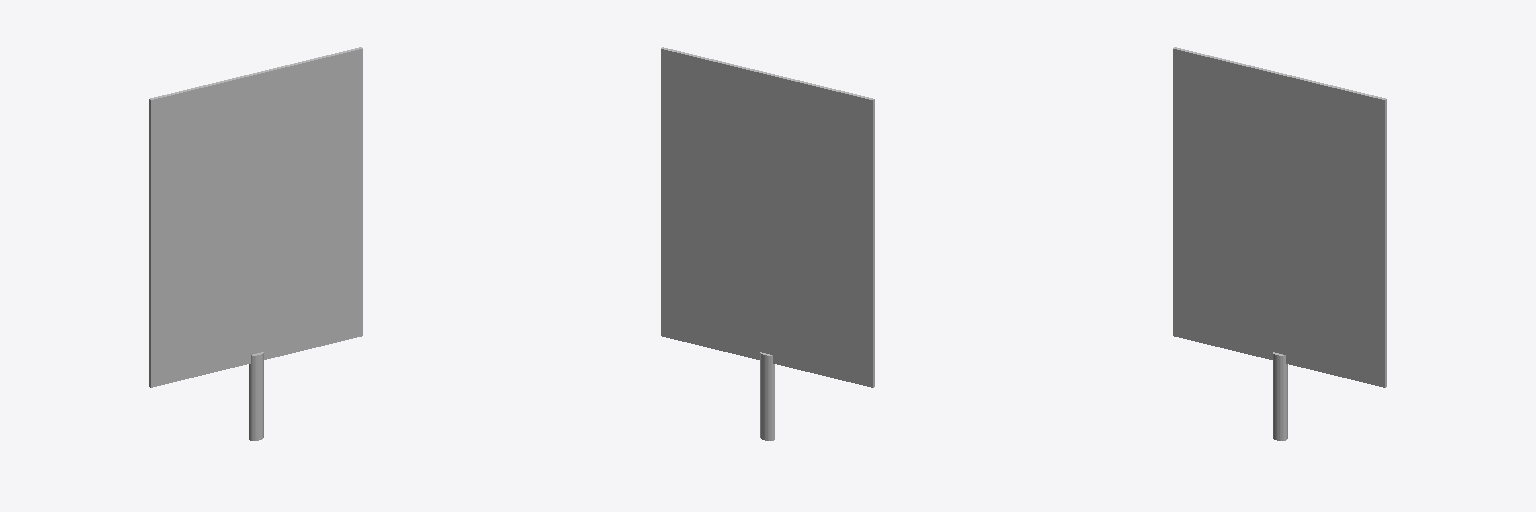
File: plas.obj
3 renders of one model, left to right at view 1: azimuth 30°, elevation 25°; view 2: azimuth 150°, elevation 25°; view 3: azimuth 330°, elevation 25°, orthographic.
Parts seen in each view (by area): view 1: default004; view 2: default004; view 3: default004.
Boxes of the visible parts, x1=… form: default004: x1=149, y1=47, x2=362, y2=440; default004: x1=661, y1=47, x2=874, y2=440; default004: x1=1173, y1=47, x2=1386, y2=440.
Size of the model in its own units: 0.315 by 0.5168 by 0.0162.